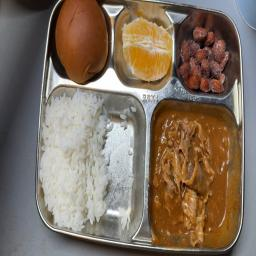100_beef: (53, 0, 113, 83)
100_nuts: (180, 20, 229, 97)
100_orange: (119, 13, 174, 85)
50_rice: (41, 88, 144, 237)
75_beef: (152, 101, 239, 247)
